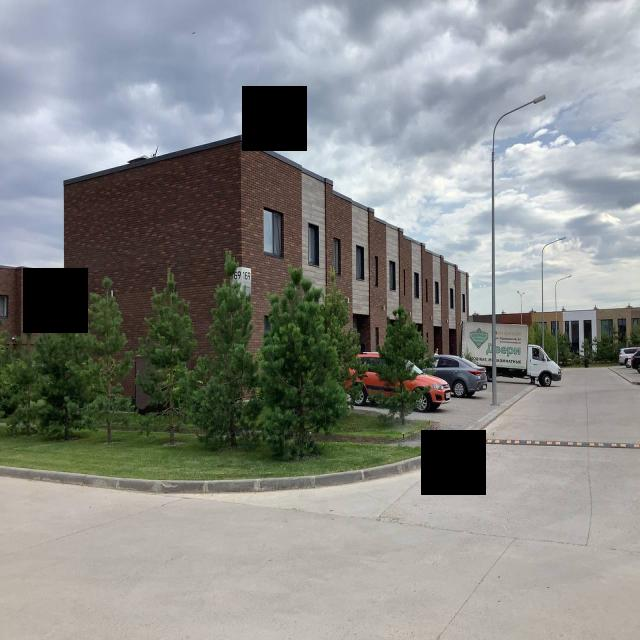Building: (66, 138, 470, 352)
